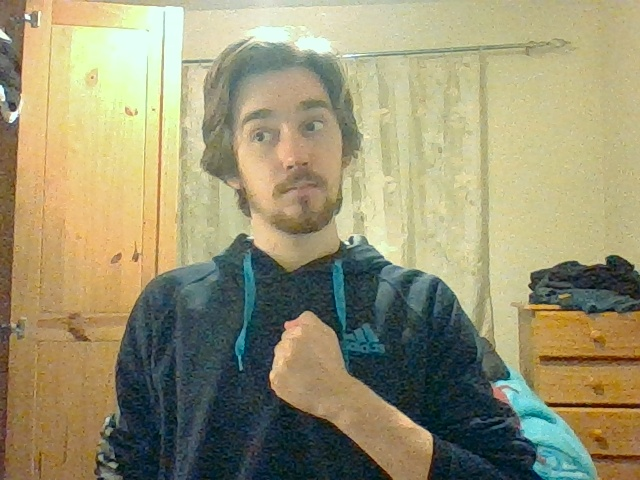my: (270, 310, 344, 412)
